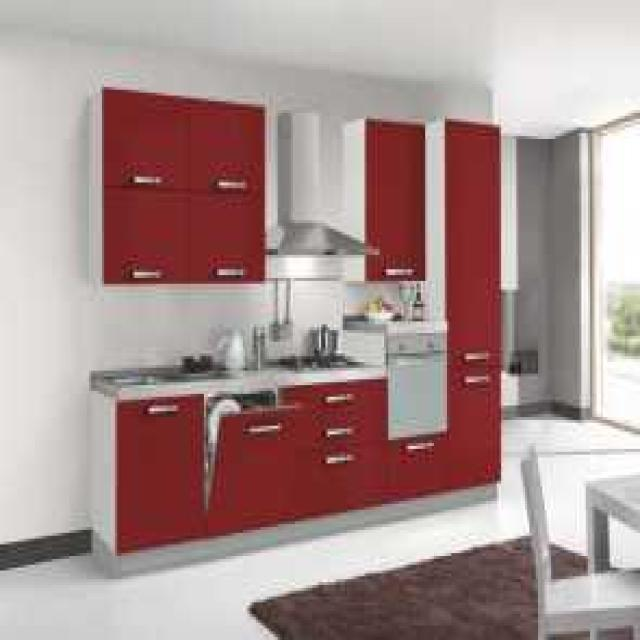dishwasher: (202, 385, 299, 527)
